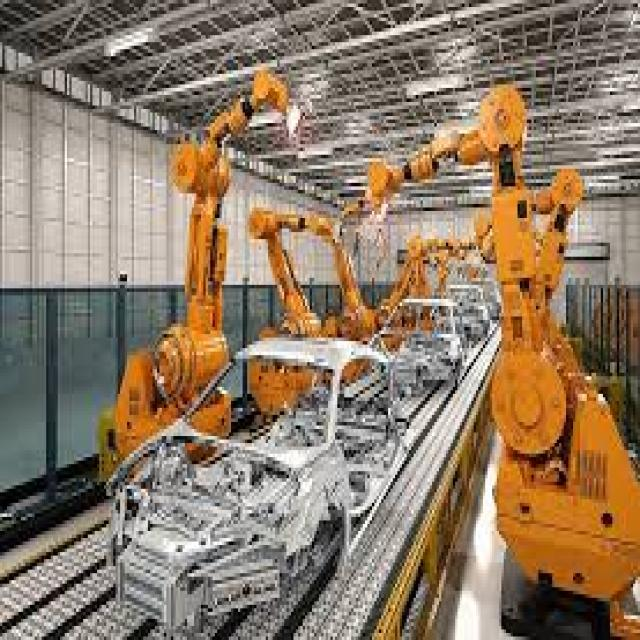Robotic-arm: (363, 74, 640, 622), (107, 61, 294, 486), (250, 192, 338, 414)
